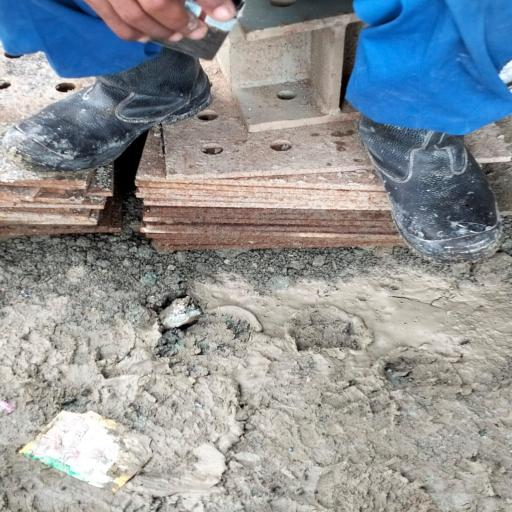safety_shoe: (10, 52, 226, 181), (358, 112, 508, 262)
